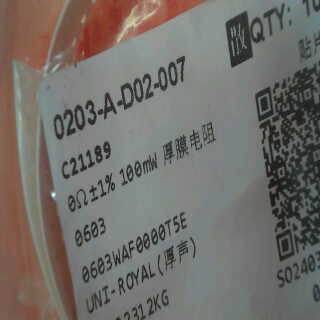0R: (63, 171, 122, 251)
